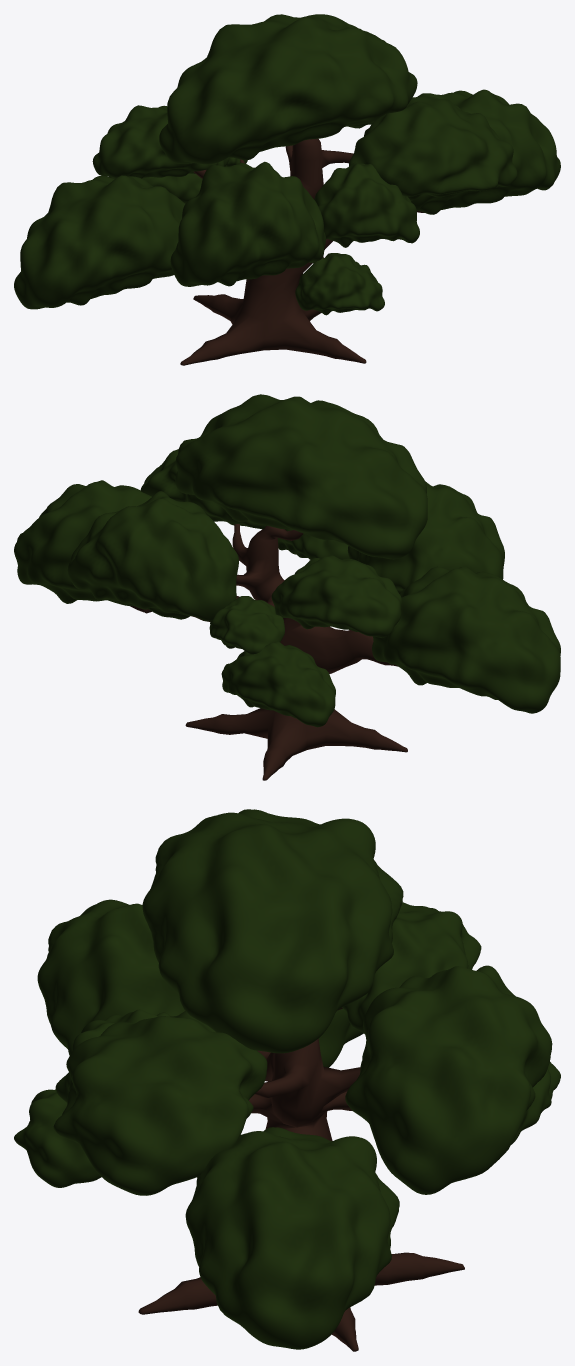
The model's file is Tree07.fbx.
The picture shows the model from 3 angles, top to bottom: view 1: azimuth 30°, elevation 25°; view 2: azimuth 150°, elevation 25°; view 3: azimuth 270°, elevation 25°; orthographic projection. The views are drawn at different scales.
Parts seen in each view (by area): view 1: Box064, Box076, Box077, Box080, Cylinder009, Box087, Box078, Box086, Box079, Box084; view 2: Box064, Box076, Box083, Cylinder009, Box086, Box087, Box077, Box084, Box085, Box080, Box078; view 3: Box064, Box087, Box083, Box080, Box077, Cylinder009, Box086, Box079, Box076, Box078, Box084.
Boxes of the visible parts, box(x1,y1,x2,y2) form: Box064: box(159, 14, 417, 164); Box076: box(14, 175, 185, 309); Box077: box(170, 161, 325, 286); Box080: box(349, 96, 517, 200); Cylinder009: box(180, 138, 424, 365); Box087: box(411, 89, 560, 214); Box078: box(314, 162, 419, 247); Box086: box(92, 105, 229, 178); Box079: box(295, 253, 384, 315); Box084: box(109, 173, 202, 203); Box064: box(175, 394, 427, 559); Box076: box(372, 566, 560, 713); Box083: box(67, 491, 238, 621); Cylinder009: box(130, 524, 407, 780); Box086: box(271, 555, 401, 637); Box087: box(14, 480, 190, 619); Box077: box(347, 481, 504, 593); Box084: box(221, 641, 335, 727); Box085: box(209, 596, 284, 654); Box080: box(140, 449, 265, 529); Box078: box(277, 529, 349, 559); Box064: box(142, 809, 403, 1053); Box087: box(185, 1127, 399, 1349); Box083: box(345, 965, 552, 1194); Box080: box(53, 1011, 267, 1195); Box077: box(37, 899, 184, 1055); Cylinder009: box(138, 1007, 464, 1351); Box086: box(342, 902, 481, 1033); Box079: box(14, 1089, 101, 1187); Box076: box(318, 1008, 363, 1067); Box078: box(55, 1009, 170, 1102); Box084: box(511, 1062, 560, 1144).
Bounding box in the file's own units: 378 × 218 × 229.
